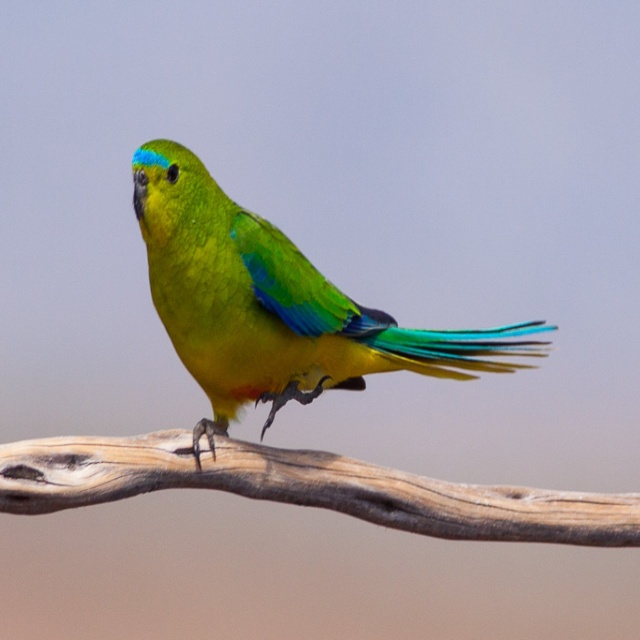Parrot: (131, 140, 557, 462)
